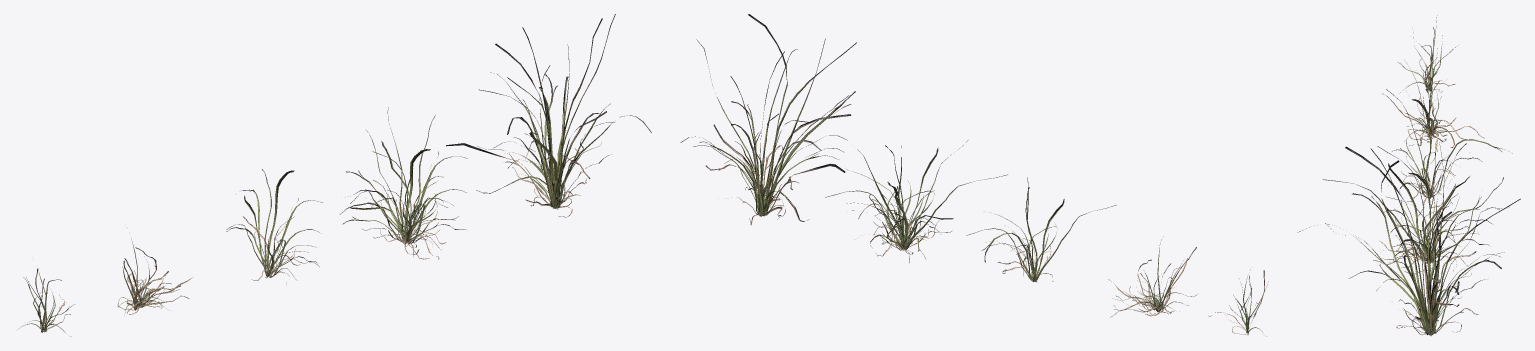
The model's file is grass_medium_02.glb.
The picture shows the model from 3 angles, left to right: view 1: azimuth 30°, elevation 25°; view 2: azimuth 150°, elevation 25°; view 3: azimuth 270°, elevation 25°; orthographic projection. The views are drawn at different scales.
Visible parts, largest first — view 1: grass_medium_02_e, grass_medium_02_d, grass_medium_02_c, grass_medium_02_b, grass_medium_02_a; view 2: grass_medium_02_e, grass_medium_02_d, grass_medium_02_c, grass_medium_02_b, grass_medium_02_a; view 3: grass_medium_02_e, grass_medium_02_d, grass_medium_02_c, grass_medium_02_b, grass_medium_02_a.
Boxes of the visible parts, bbox=[...] form: grass_medium_02_e: bbox=[446, 14, 651, 217]; grass_medium_02_d: bbox=[340, 107, 467, 259]; grass_medium_02_c: bbox=[226, 169, 322, 280]; grass_medium_02_b: bbox=[117, 238, 192, 315]; grass_medium_02_a: bbox=[19, 268, 74, 336]; grass_medium_02_e: bbox=[680, 14, 856, 224]; grass_medium_02_d: bbox=[825, 140, 1007, 262]; grass_medium_02_c: bbox=[966, 177, 1116, 282]; grass_medium_02_b: bbox=[1108, 236, 1197, 317]; grass_medium_02_a: bbox=[1209, 269, 1268, 334]; grass_medium_02_e: bbox=[1297, 142, 1520, 335]; grass_medium_02_d: bbox=[1323, 143, 1509, 274]; grass_medium_02_c: bbox=[1386, 89, 1512, 215]; grass_medium_02_b: bbox=[1382, 48, 1484, 151]; grass_medium_02_a: bbox=[1398, 15, 1455, 92].
Size of the model in its own units: 1.31 by 0.4053 by 0.4332.
1 material, 1 textured.
